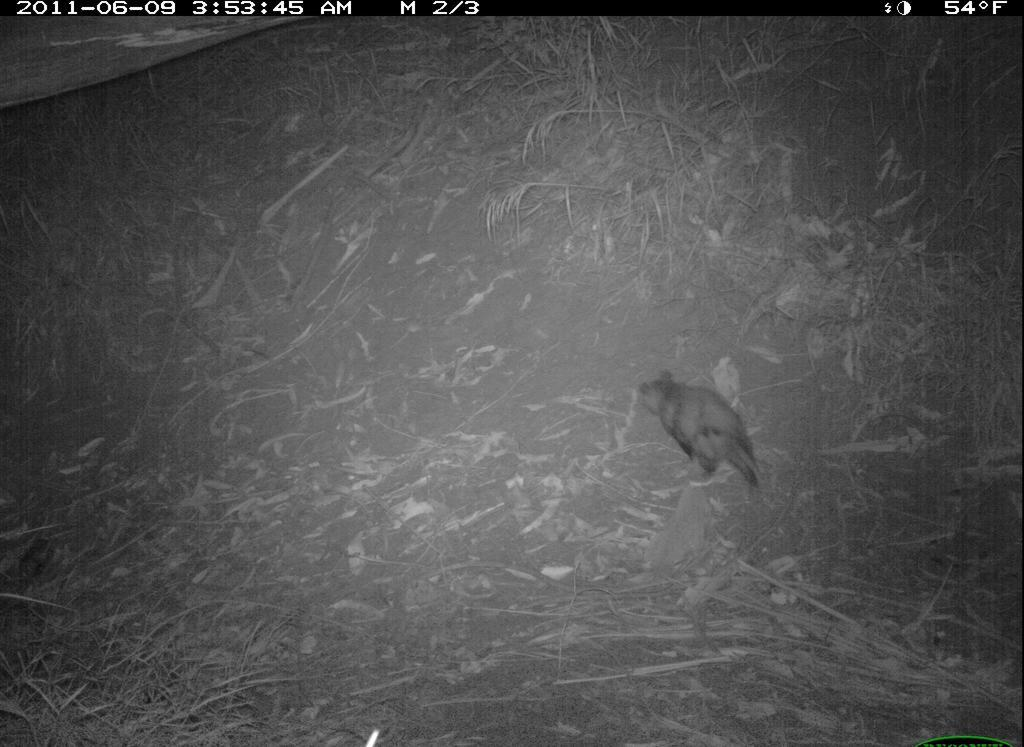opossum: (625, 354, 785, 511)
